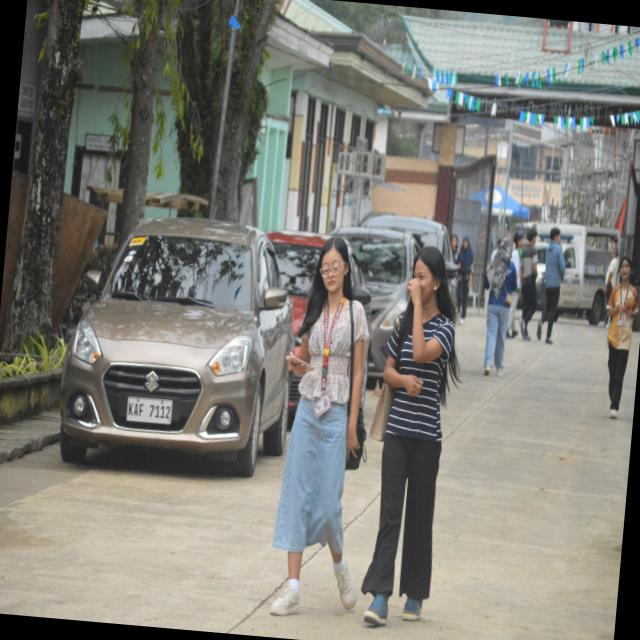person: (362, 247, 459, 626), (271, 238, 368, 615), (607, 257, 638, 419), (484, 238, 517, 375), (514, 226, 544, 340), (537, 228, 565, 344), (507, 232, 523, 337), (457, 237, 474, 324), (606, 244, 619, 303), (451, 235, 458, 264)
